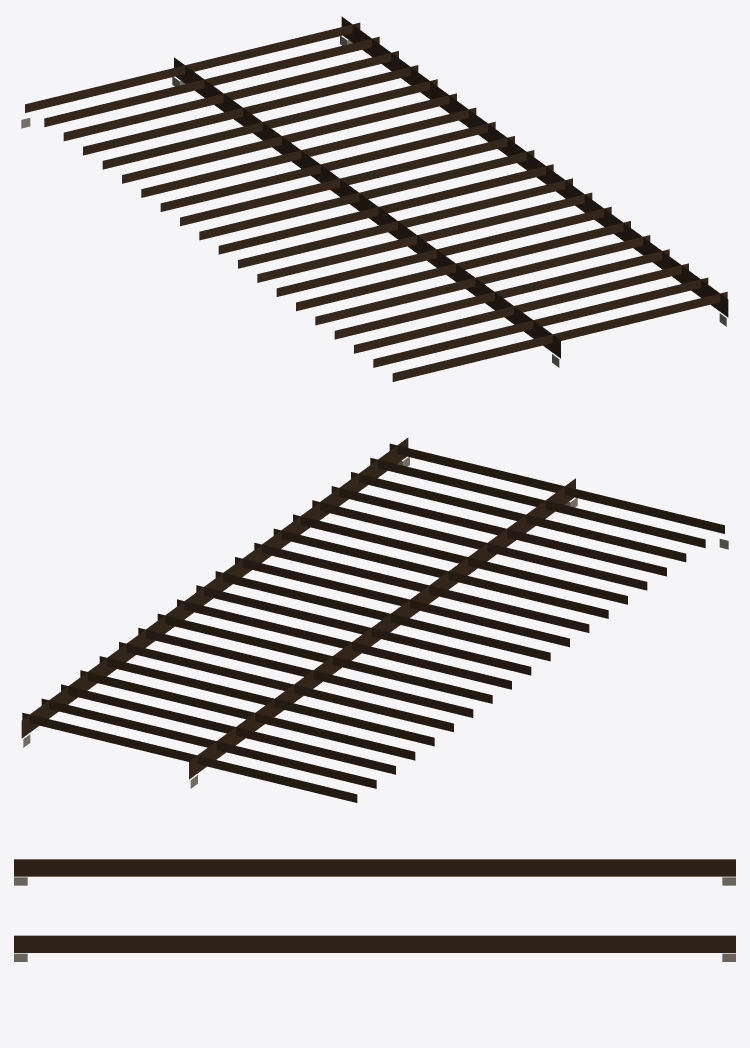
Rendered from roof.timber_bay.brown.glb.
3 renders of one model, top to bottom at view 1: azimuth 30°, elevation 25°; view 2: azimuth 150°, elevation 25°; view 3: azimuth 270°, elevation 25°, orthographic. The views are drawn at different scales.
Visible parts, largest first — view 1: roof_timber_bay_brown; view 2: roof_timber_bay_brown; view 3: roof_timber_bay_brown.
Boxes of the visible parts, <box> form: roof_timber_bay_brown: <box>21,16,728,381</box>; roof_timber_bay_brown: <box>21,437,728,802</box>; roof_timber_bay_brown: <box>14,859,735,961</box>.
Size of what is drawn, in the model's own units: 8 by 0.62 by 16.
